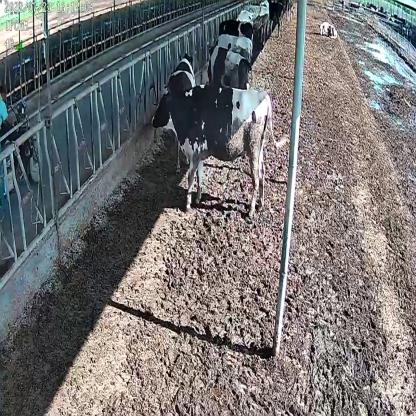cow: (151, 85, 289, 220), (206, 43, 252, 91), (165, 51, 197, 98), (318, 21, 338, 40)
